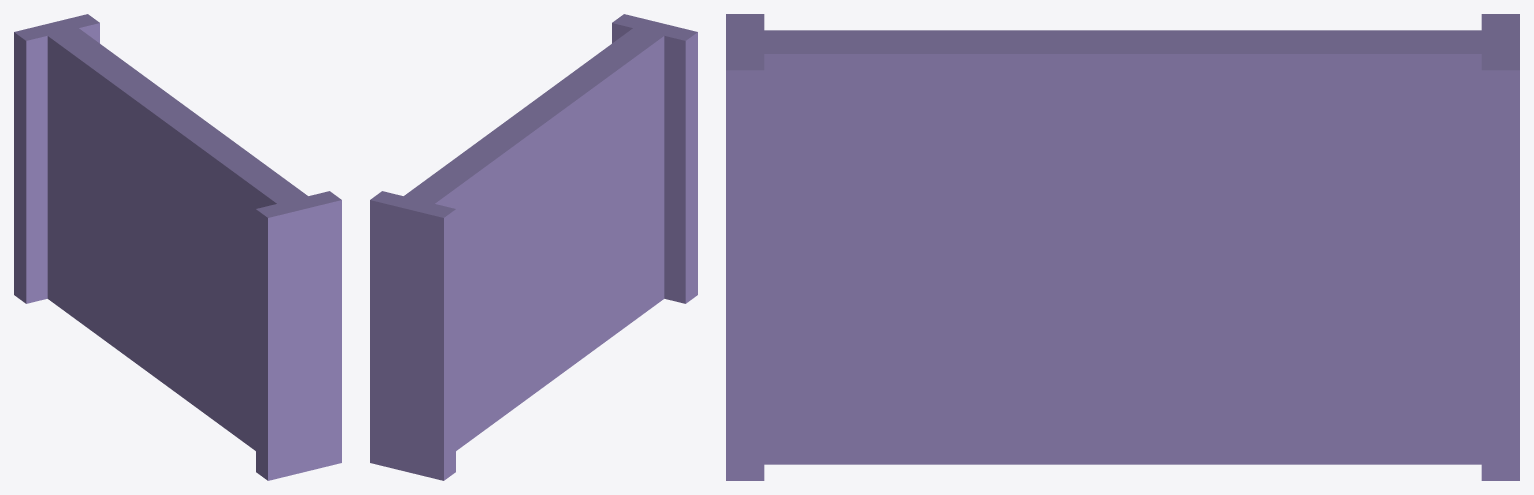
Rendered from Wall.fbx.
3 views of the same model, side by side, from view 1: azimuth 30°, elevation 25°; view 2: azimuth 150°, elevation 25°; view 3: azimuth 270°, elevation 25° (orthographic). The views are drawn at different scales.
Parts seen in each view (by area): view 1: Cube.097; view 2: Cube.097; view 3: Cube.097.
Part boxes in pixels (bbox=[...]): Cube.097: bbox=[14, 14, 341, 480]; Cube.097: bbox=[370, 14, 697, 480]; Cube.097: bbox=[726, 14, 1519, 480].
Size of the model in its own units: 100 by 342 by 598.
